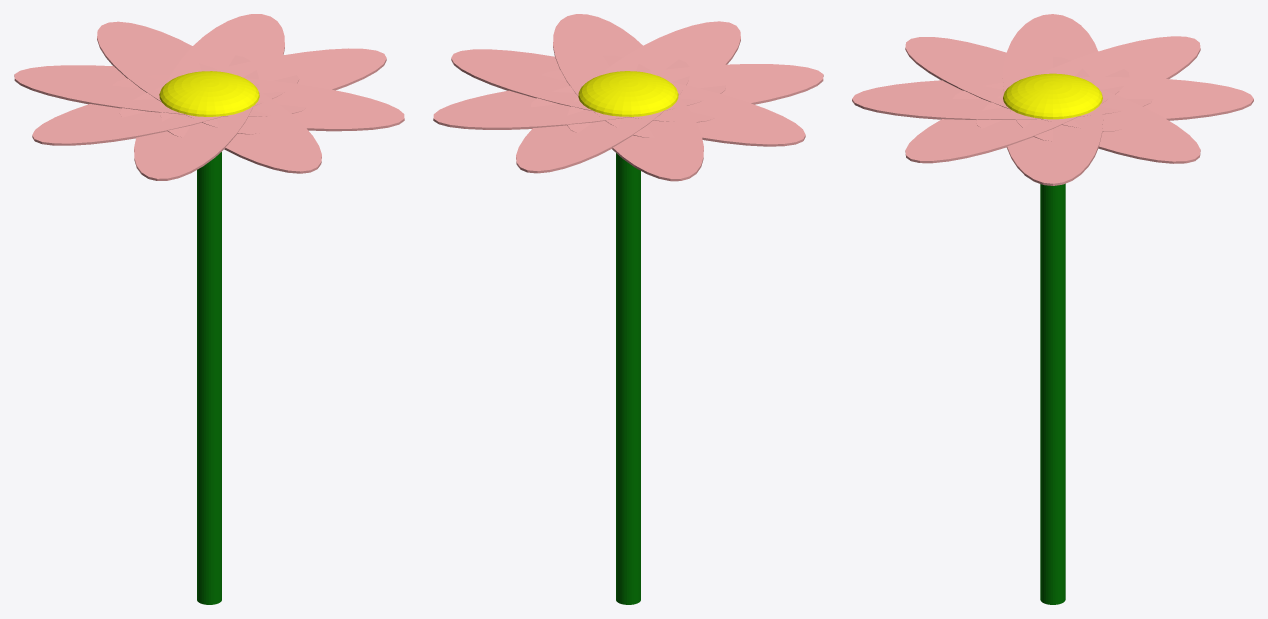
The model's file is flower3.obj.
3 renders of one model, left to right at view 1: azimuth 30°, elevation 25°; view 2: azimuth 150°, elevation 25°; view 3: azimuth 270°, elevation 25°, orthographic.
Visible parts, largest first — view 1: Circle_Circle.304, Cylinder_Cylinder.014, Sphere_Sphere.007; view 2: Circle_Circle.304, Cylinder_Cylinder.014, Sphere_Sphere.007; view 3: Circle_Circle.304, Cylinder_Cylinder.014, Sphere_Sphere.007.
Boxes of the visible parts, bbox=[...] form: Circle_Circle.304: bbox=[14, 14, 404, 180]; Cylinder_Cylinder.014: bbox=[197, 152, 221, 604]; Sphere_Sphere.007: bbox=[159, 71, 259, 116]; Circle_Circle.304: bbox=[433, 14, 823, 181]; Cylinder_Cylinder.014: bbox=[616, 153, 640, 604]; Sphere_Sphere.007: bbox=[578, 71, 678, 116]; Circle_Circle.304: bbox=[852, 14, 1253, 185]; Cylinder_Cylinder.014: bbox=[1040, 183, 1065, 604]; Sphere_Sphere.007: bbox=[1003, 73, 1102, 119].
Size of the model in its own units: 1.6 by 2.26 by 1.6.
